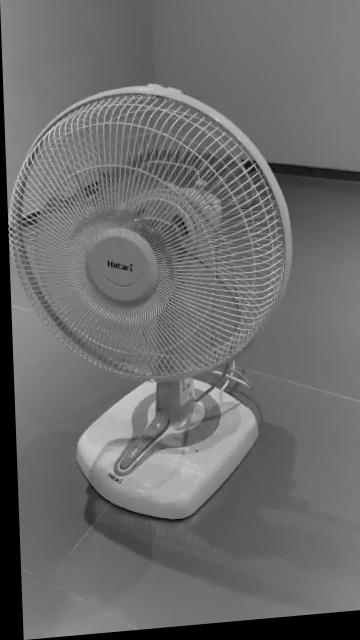Fan: (7, 88, 289, 525)
